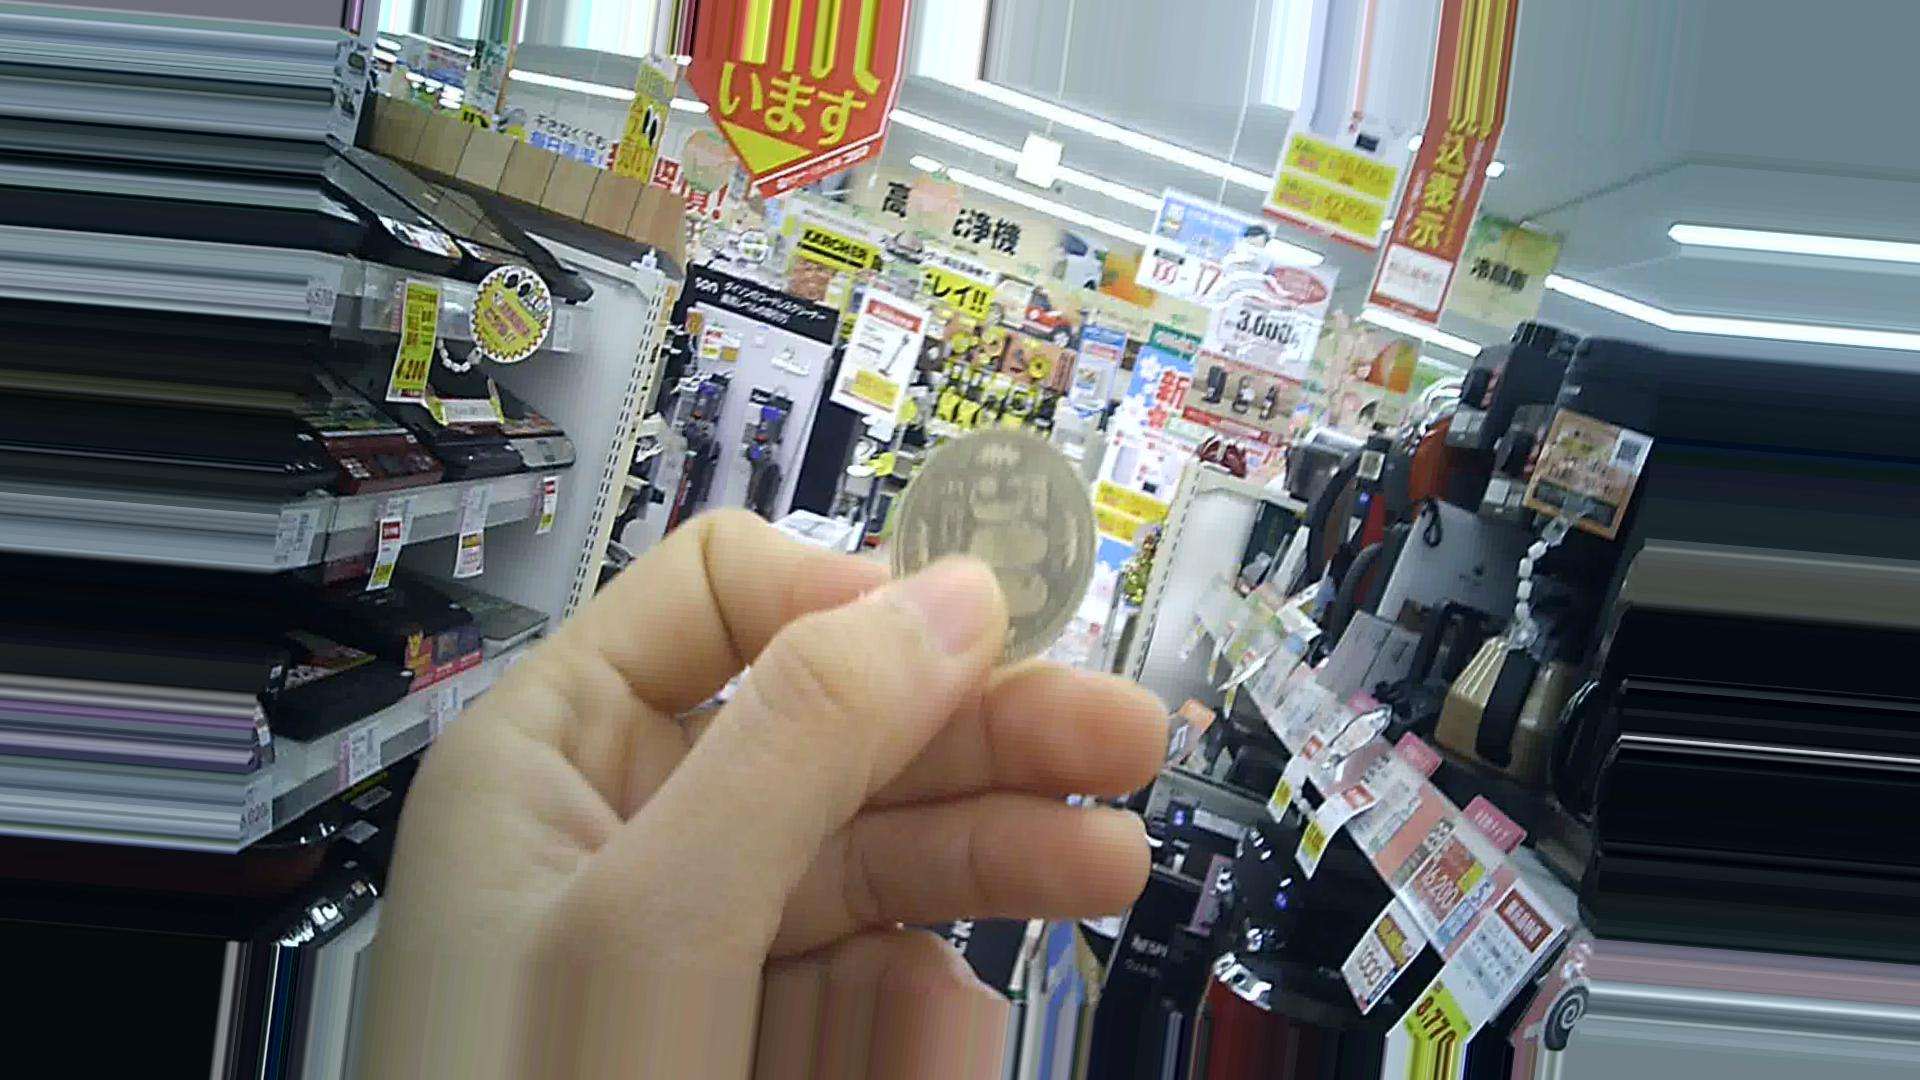500 Yen: (865, 433, 1120, 671)
